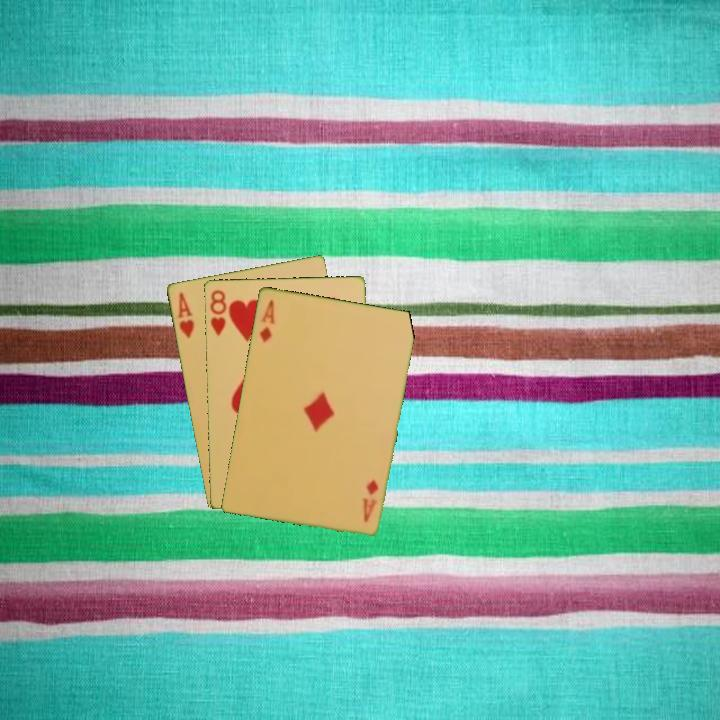8h: (206, 286, 229, 338)
Ad: (255, 296, 277, 346), (359, 476, 381, 525)
Ah: (173, 289, 197, 341)
